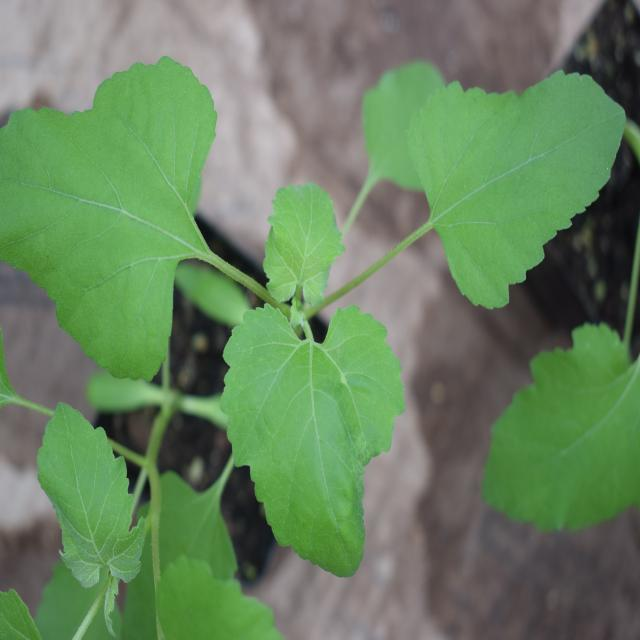cocklebur: (12, 55, 614, 541)
